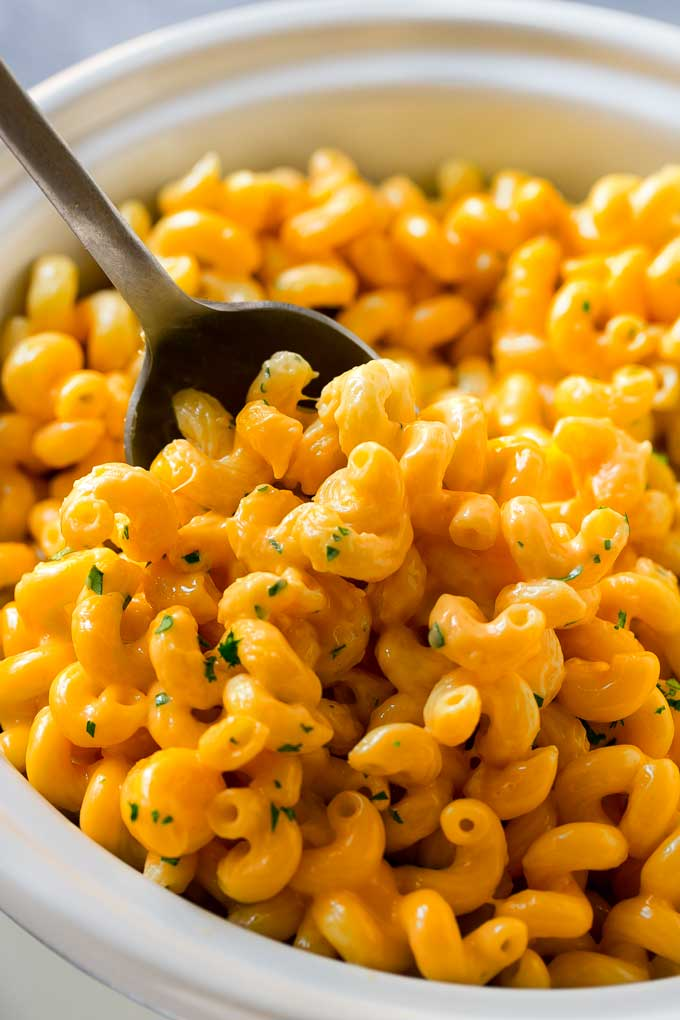macncheese: (5, 47, 680, 1009)
